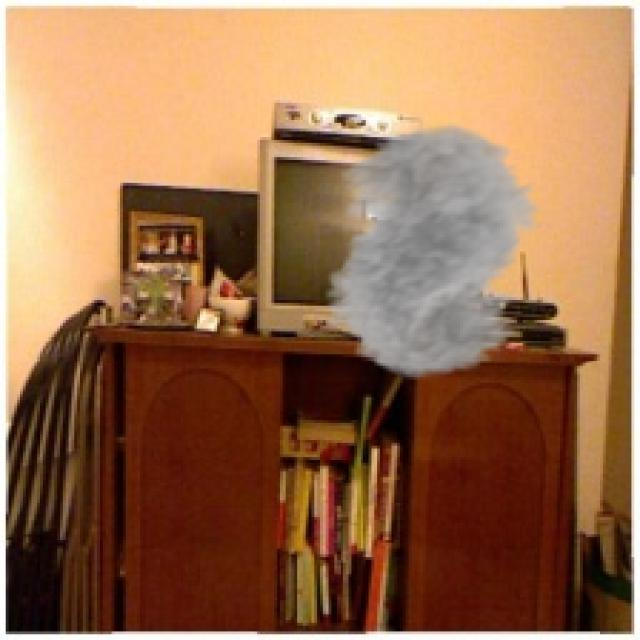smoke: (297, 123, 560, 380)
